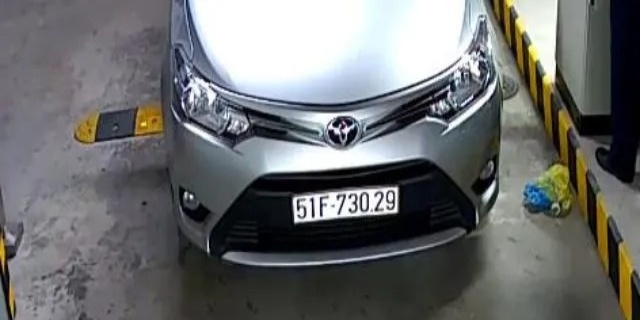bien_so: (294, 190, 398, 218)
